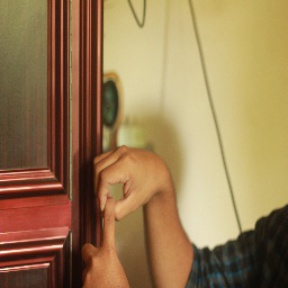Q: (77, 140, 170, 283)
